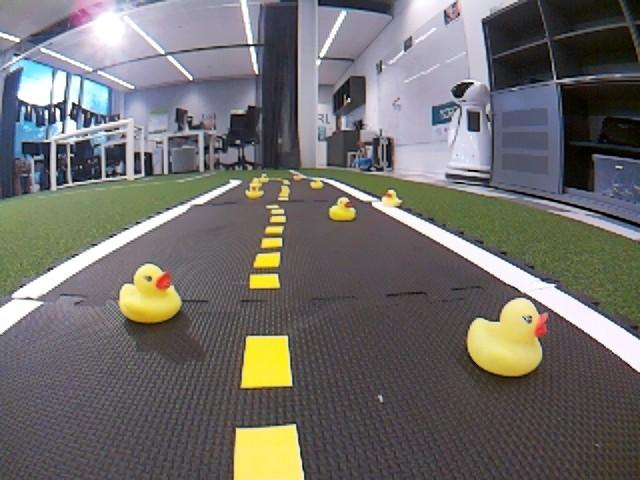Duckies: (468, 299, 546, 376), (119, 264, 179, 323), (329, 198, 354, 220), (382, 189, 402, 207), (245, 185, 261, 199), (309, 179, 322, 189), (249, 178, 261, 187), (256, 176, 267, 184), (259, 176, 269, 182), (295, 174, 301, 178)
